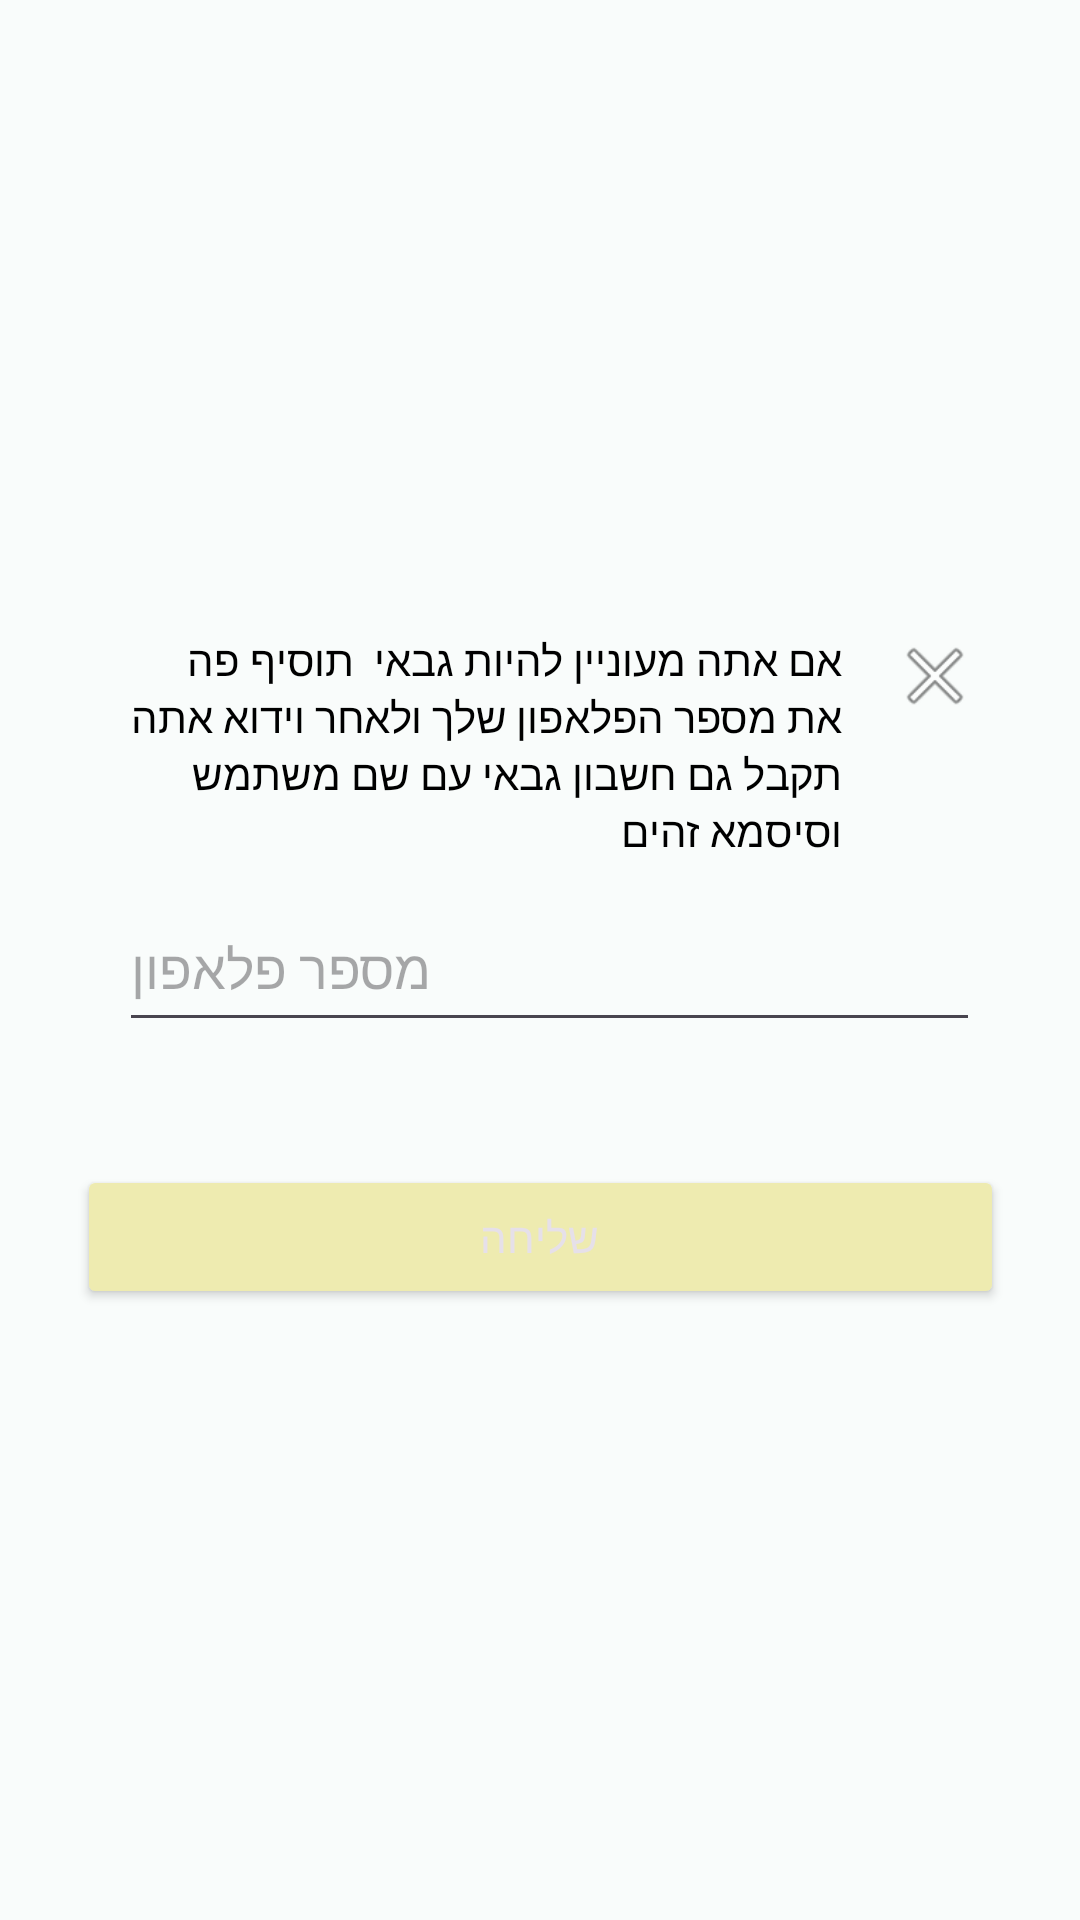

Icon click points for this 1080×1920 phone screenshot, format (x,y):
close clear cancel: (935,676)
